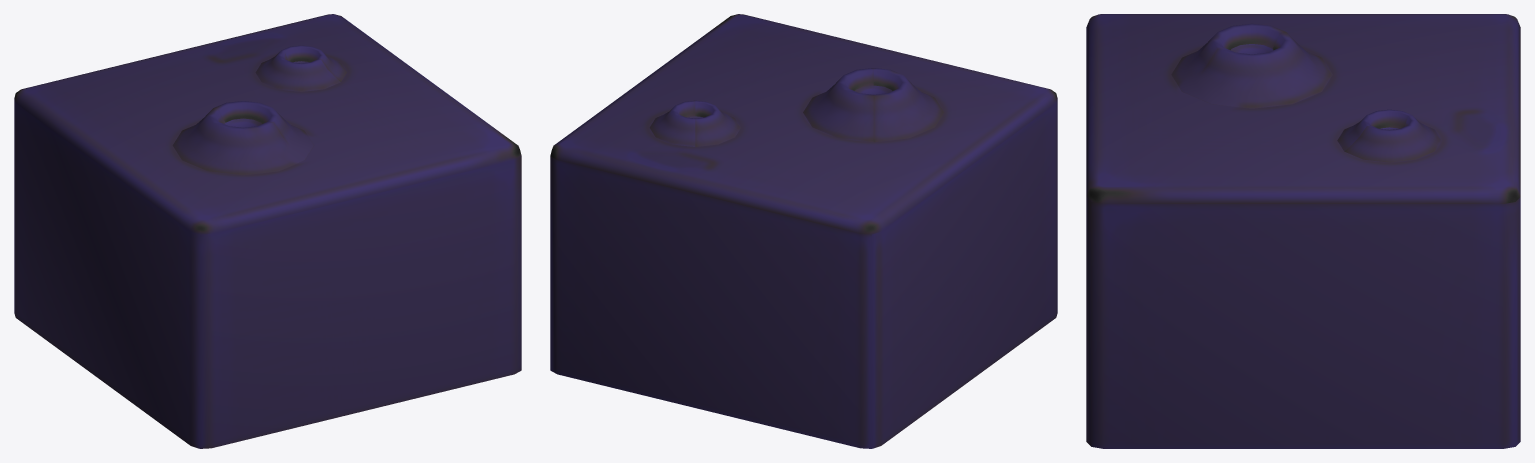
Rendered from Tile.fbx.
3 renders of one model, left to right at view 1: azimuth 30°, elevation 25°; view 2: azimuth 150°, elevation 25°; view 3: azimuth 270°, elevation 25°, orthographic. The views are drawn at different scales.
Visible parts, largest first — view 1: Tile_Low; view 2: Tile_Low; view 3: Tile_Low.
Part boxes in pixels (left/top/right/bottom): Tile_Low: left=14, top=14, right=521, bottom=448; Tile_Low: left=550, top=14, right=1057, bottom=448; Tile_Low: left=1086, top=14, right=1520, bottom=448.
Size of the model in its own units: 200 by 147 by 200.
Materials: 1 (1 with a texture image).
